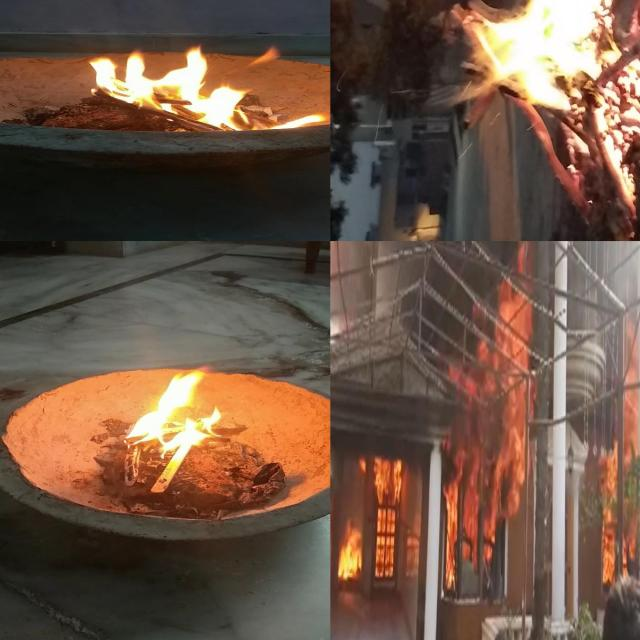fire: (342, 0, 554, 241), (65, 44, 324, 132), (484, 283, 536, 518), (116, 358, 235, 456), (442, 442, 524, 546), (620, 337, 640, 502), (598, 456, 618, 580), (368, 452, 406, 510), (336, 511, 364, 583)
